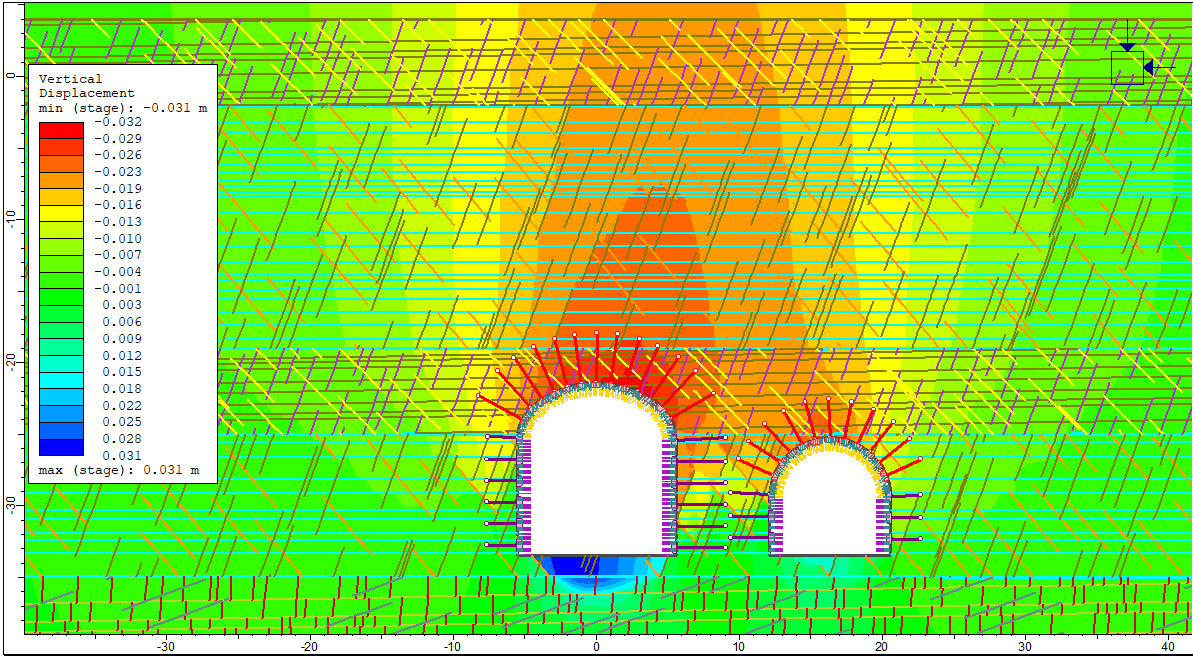crown: (576, 353, 619, 385), (810, 405, 846, 434)
label: (29, 65, 217, 483)
tunnel-opening: (513, 385, 676, 555), (768, 435, 893, 554)
